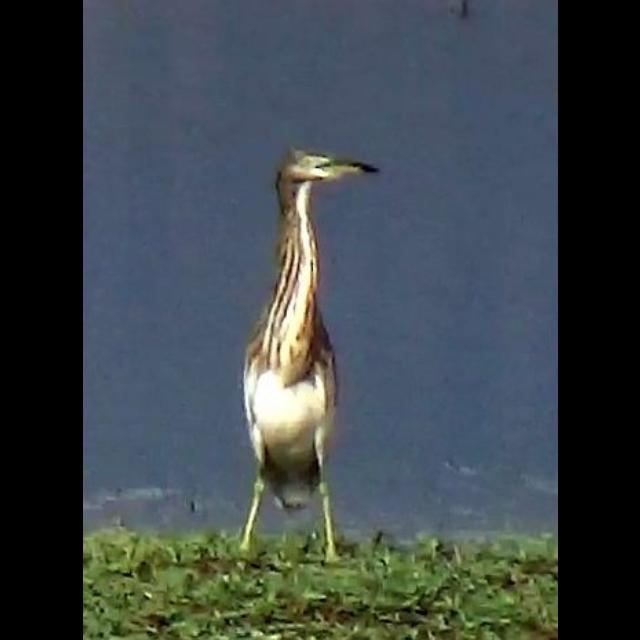heron: (232, 143, 386, 565)
